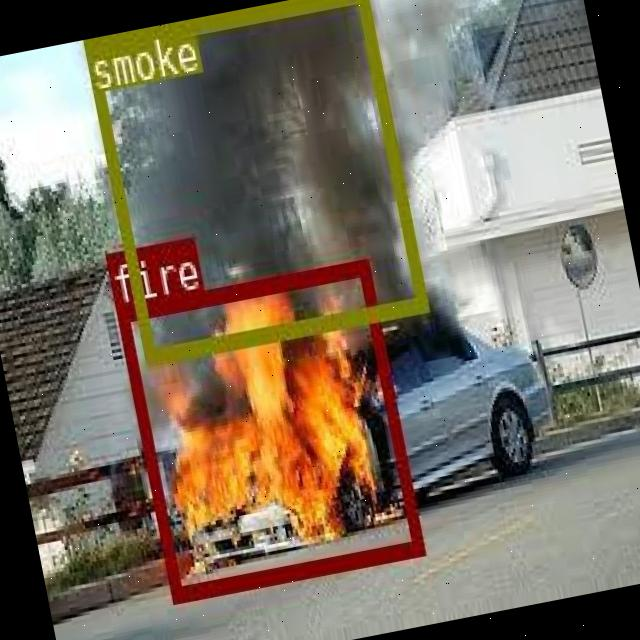fire: (114, 258, 423, 600)
smoke: (82, 0, 425, 361)
